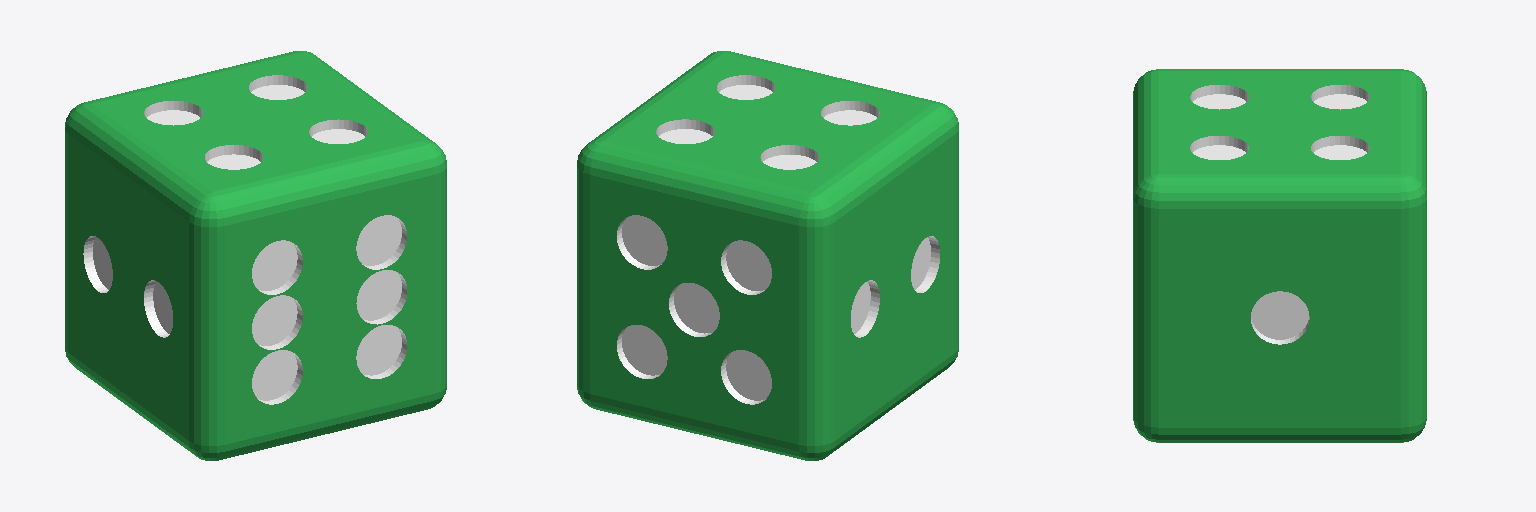
File: Dice.obj
3 views of the same model, side by side, from view 1: azimuth 30°, elevation 25°; view 2: azimuth 150°, elevation 25°; view 3: azimuth 270°, elevation 25° (orthographic).
Parts seen in each view (by area): view 1: Cube, Cylinder.1_2, Cylinder.1, Cylinder.2; view 2: Cube, Cylinder_1, Cylinder.1, Cylinder.2; view 3: Cube, Cylinder.1, Cylinder.
Boxes of the visible parts, <box> form: Cube: <box>65,51,446,460</box>; Cylinder.1_2: <box>252,215,406,404</box>; Cylinder.1: <box>144,75,367,169</box>; Cylinder.2: <box>83,236,172,337</box>; Cube: <box>577,51,958,460</box>; Cylinder_1: <box>617,215,771,404</box>; Cylinder.1: <box>656,75,879,169</box>; Cylinder.2: <box>851,236,939,337</box>; Cube: <box>1133,69,1426,442</box>; Cylinder.1: <box>1190,85,1369,159</box>; Cylinder: <box>1251,291,1309,344</box>.
Bounding box in the file's own units: 89.4 × 89.4 × 89.4.